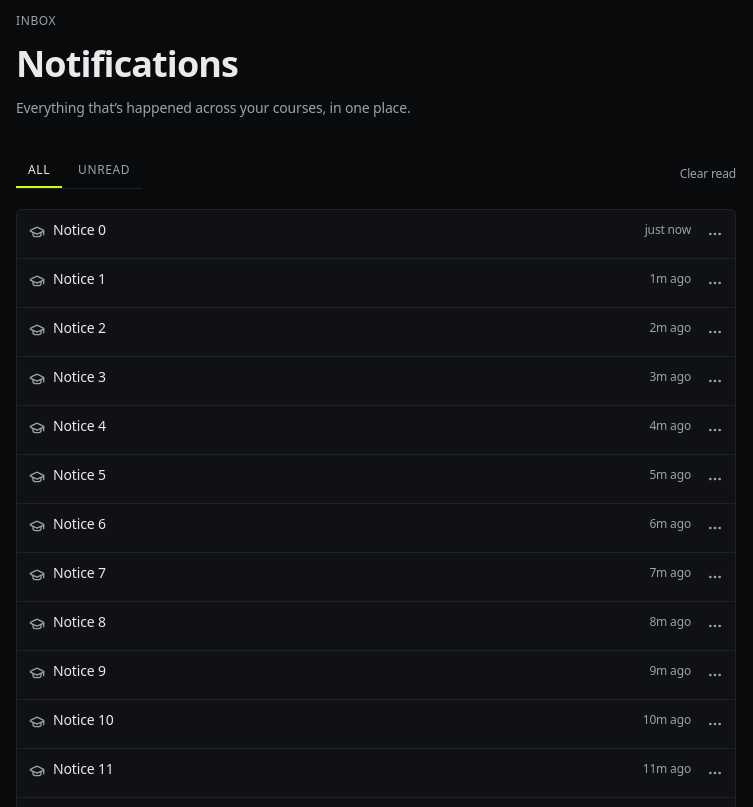
Scenario: NotificationsPage › shows the all-caught-up empty state on the unread tab
This screenshot has width=753, height=807.
Expected: the text "Notice 0" is shown, [53,220,106,240]
Step 1. Click the tab "Unread" → coordinates (104, 173), box [66,158,142,188]
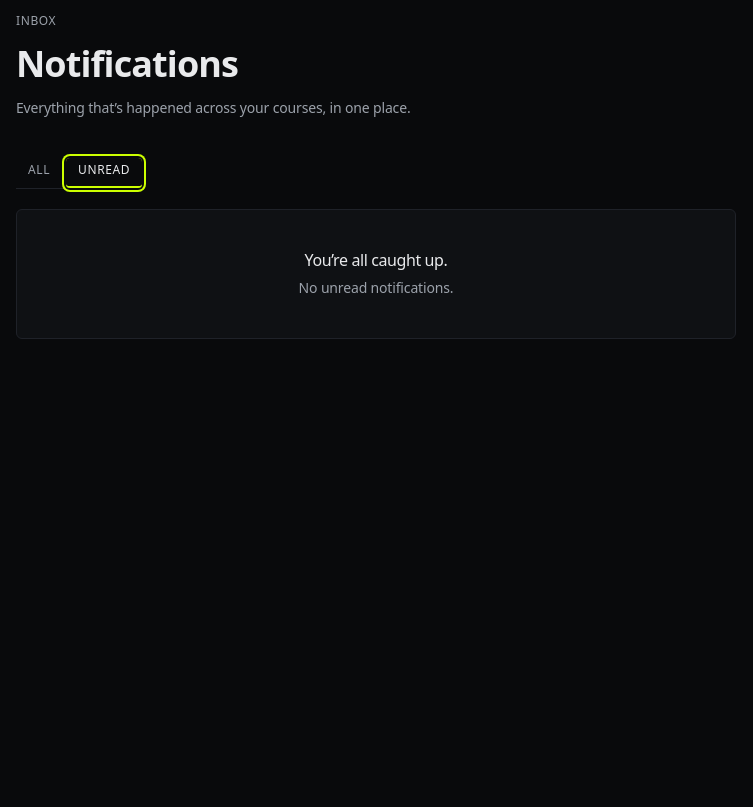
Now the text "You’re all caught up." is shown, box [305,249,447,271]
